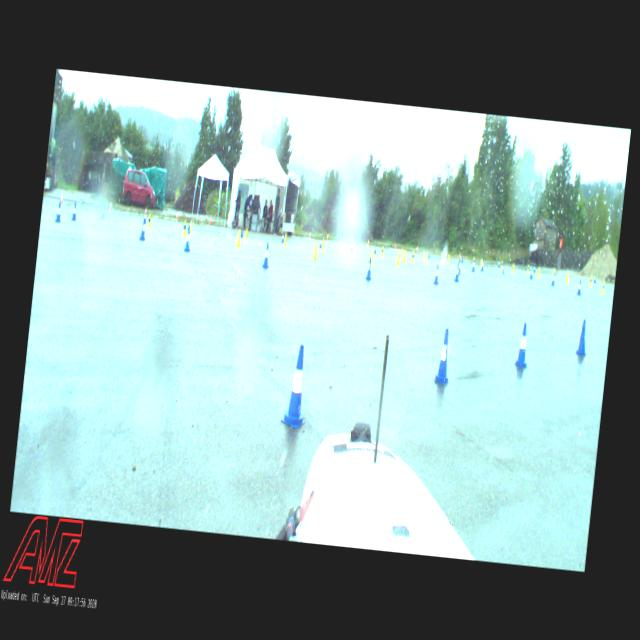blue_cone: (280, 343, 312, 429), (433, 328, 455, 386), (514, 322, 532, 368), (575, 318, 589, 356), (262, 242, 270, 268), (184, 226, 192, 252), (139, 217, 147, 240), (54, 200, 62, 222), (365, 256, 372, 280), (433, 264, 440, 284), (71, 202, 77, 220), (454, 264, 459, 282), (576, 280, 582, 294), (456, 262, 461, 274), (471, 258, 475, 272), (551, 272, 555, 286), (529, 266, 533, 280), (102, 204, 106, 218), (479, 260, 484, 270), (318, 236, 322, 248), (280, 231, 284, 242), (501, 263, 505, 274), (240, 225, 243, 237), (532, 264, 536, 273), (351, 242, 354, 252), (373, 244, 376, 253), (593, 274, 596, 282), (144, 212, 146, 224), (188, 218, 190, 230), (498, 259, 500, 268), (428, 250, 430, 258)
orange_cone: (338, 234, 342, 241), (175, 211, 178, 220), (144, 206, 147, 214), (308, 230, 311, 238), (366, 238, 369, 245), (210, 216, 212, 224), (326, 233, 328, 240)
unknown_cone: (394, 243, 396, 249)
yellow_cone: (236, 228, 242, 247), (312, 240, 318, 258), (182, 220, 187, 236), (370, 248, 374, 266), (402, 250, 407, 263), (147, 212, 151, 228), (396, 250, 400, 265), (244, 228, 248, 241), (423, 252, 428, 262), (601, 281, 605, 293), (320, 238, 324, 250), (352, 242, 356, 254), (510, 262, 514, 273), (282, 234, 286, 245), (439, 253, 443, 264), (589, 274, 592, 286), (411, 250, 414, 262), (381, 245, 384, 256), (552, 266, 555, 277), (422, 250, 425, 260), (537, 266, 540, 276), (471, 256, 474, 266), (446, 253, 449, 262), (400, 248, 403, 257), (190, 219, 192, 232), (526, 264, 529, 272), (566, 270, 568, 282), (480, 258, 482, 268), (500, 259, 502, 268)
